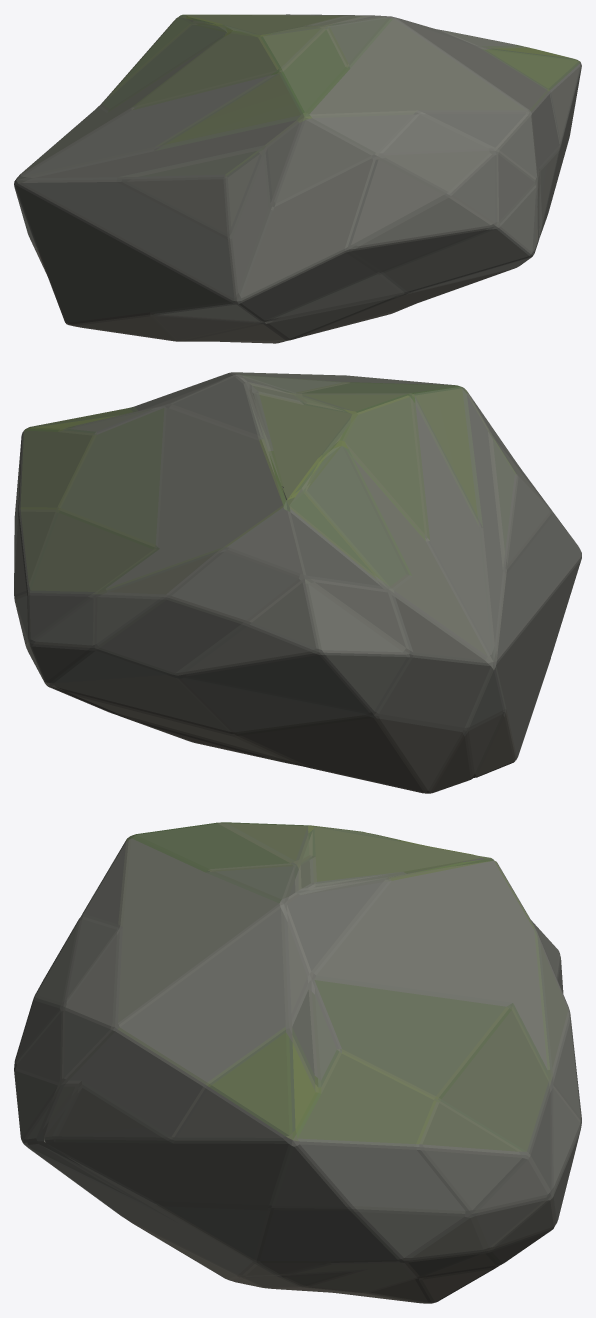
Rendered from rock_a.glb.
The picture shows the model from 3 angles, top to bottom: view 1: azimuth 30°, elevation 25°; view 2: azimuth 150°, elevation 25°; view 3: azimuth 270°, elevation 25°; orthographic projection. The views are drawn at different scales.
Parts seen in each view (by area): view 1: rock_a; view 2: rock_a; view 3: rock_a.
Part boxes in pixels (x1=…): rock_a: x1=14, y1=14, x2=581, y2=343; rock_a: x1=14, y1=372, x2=581, y2=793; rock_a: x1=14, y1=822, x2=581, y2=1303.
Bounding box in the file's own units: 2.46 × 1.28 × 1.92.
